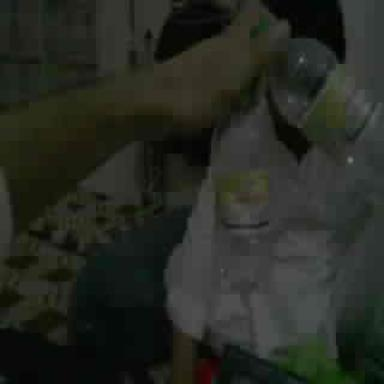bottle: (269, 40, 383, 197), (211, 101, 270, 296)
